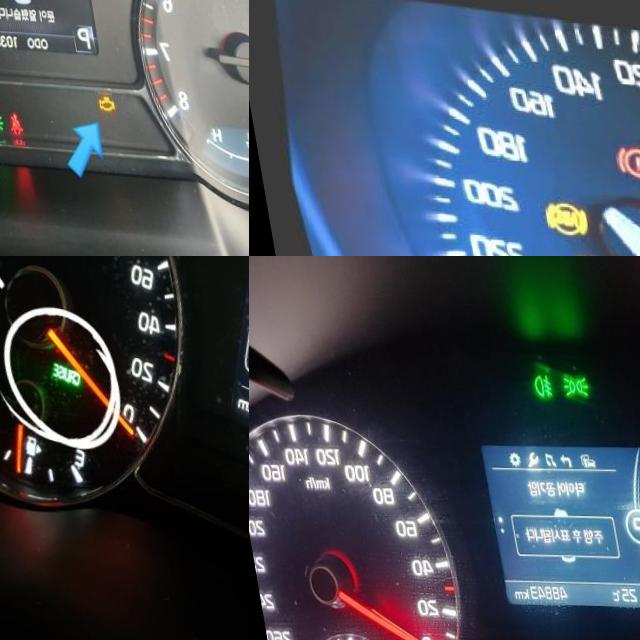FrontFogLight: (527, 371, 548, 397)
SideLamp: (556, 372, 585, 397)
